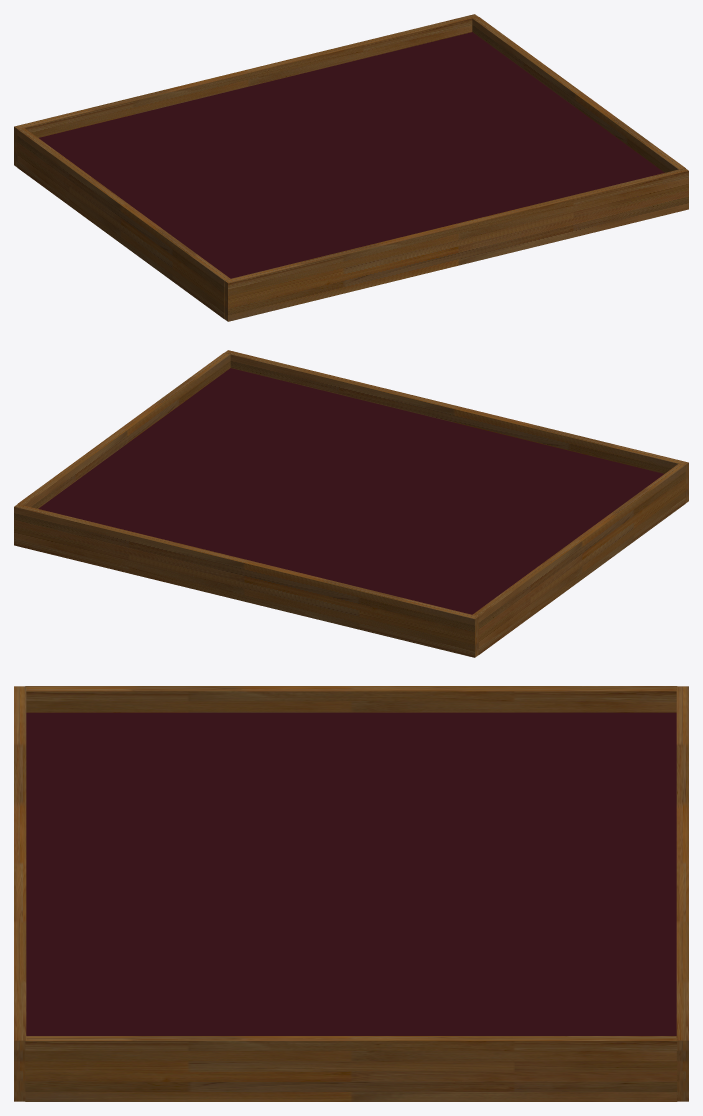
File: item_display.obj
The picture shows the model from 3 angles, top to bottom: view 1: azimuth 30°, elevation 25°; view 2: azimuth 150°, elevation 25°; view 3: azimuth 270°, elevation 25°; orthographic projection. The views are drawn at different scales.
Parts seen in each view (by area): view 1: Box136, Box135; view 2: Box136, Box135; view 3: Box136, Box135.
Part boxes in pixels (x1,y1,x2,y2): Box136: (39, 32, 664, 278); Box135: (14, 14, 688, 321); Box136: (38, 368, 663, 614); Box135: (14, 350, 688, 657); Box136: (26, 712, 676, 1035); Box135: (14, 686, 688, 1101).
Bounding box in the file's own units: 22.66 × 1.84 × 18.21.
2 materials, 1 textured.
